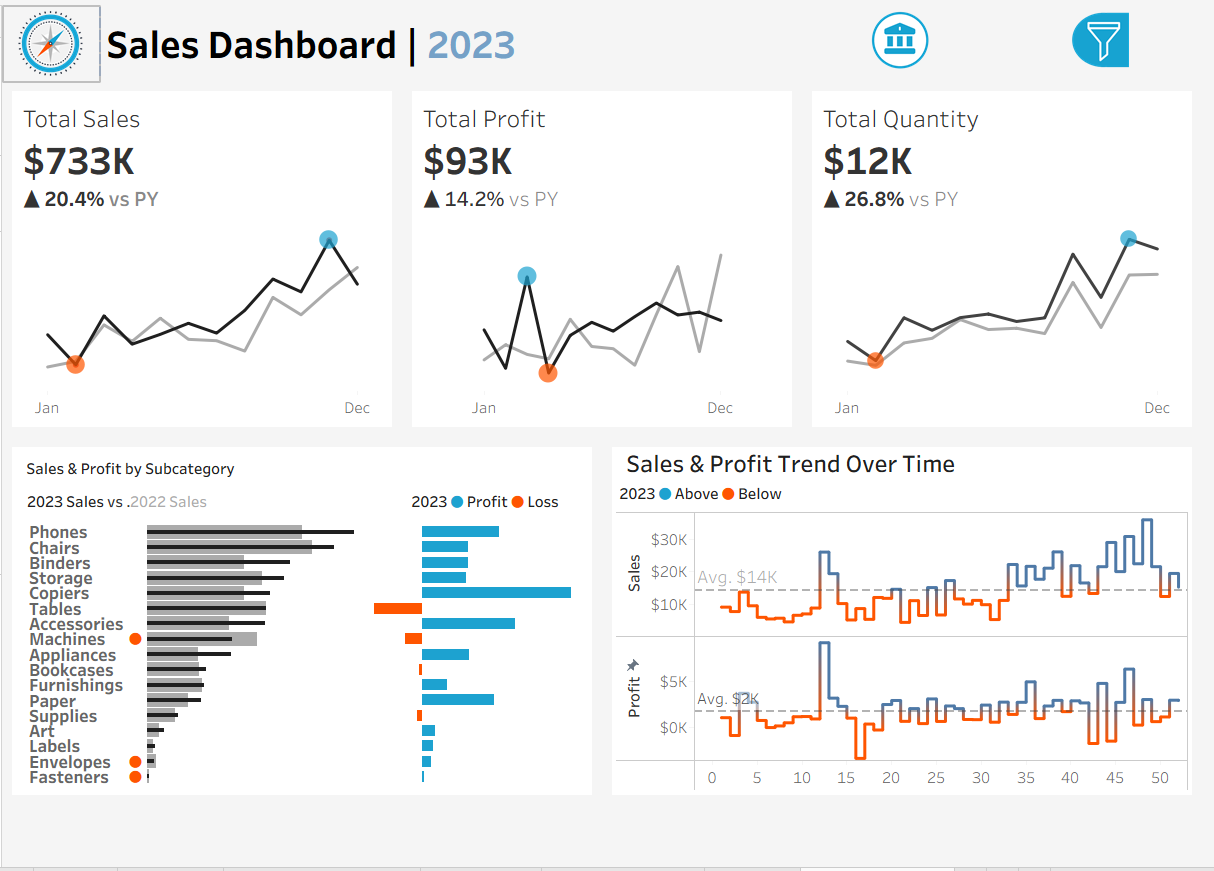

This screenshot's page, from the dashboard's own definition file:
{"tool":"tableau","page":{"name":"Sales Dashboard","canvas":[1200,800],"ordinal":0},"visuals":[{"type":"image","param":"Image/Icon - Logo.png","box":[0,0,97,76]},{"type":"text","box":[97,0,1103,76]},{"type":"dashboard-object","box":[798,2,200,66]},{"type":"dashboard-object","box":[998,2,199,66]},{"type":"blank","box":[874,25,301,105]},{"type":"worksheet","title":"Legend KPI","mark":"Automatic","box":[0,76,1200,10]},{"type":"worksheet","title":"KPI Sales","mark":"Automatic","rows":["Calculation_202943508284424199"],"cols":["Order Date"],"box":[0,86,400,346]},{"type":"worksheet","title":"KPI Profit","mark":"Automatic","rows":["Calculation_202943508320563218"],"cols":["Order Date"],"box":[400,86,400,346]},{"type":"worksheet","title":"KPI Quantity","mark":"Line","rows":["Calculation_202943508334333977"],"cols":["Order Date"],"box":[800,86,400,346]},{"type":"text","box":[874,130,301,40]},{"type":"parameter","param":"[Parameters].[Parameter 1]","box":[874,170,301,56]},{"type":"blank","box":[874,226,301,71]},{"type":"text","box":[874,297,301,33]},{"type":"filter","title":"KPI Sales","param":"[federated.0f435am0am2u1h1epmaek0a4b98w].[none:Category:nk]","box":[874,330,301,61]},{"type":"filter","title":"KPI Sales","param":"[federated.0f435am0am2u1h1epmaek0a4b98w].[none:Sub-Category:nk]","box":[874,391,301,61]},{"type":"text","box":[610,442,580,32]},{"type":"text","box":[17,449,566,29]},{"type":"text","box":[874,452,301,33]},{"type":"text","box":[610,474,580,29]},{"type":"worksheet","title":"Legend Subcategory","mark":"Automatic","box":[17,478,385,37]},{"type":"text","box":[402,478,181,37]},{"type":"filter","title":"KPI Sales","param":"[federated.0f435am0am2u1h1epmaek0a4b98w].[none:Region:nk]","box":[874,485,301,61]},{"type":"worksheet","title":"Weekly Trends","mark":"Automatic","rows":["Calculation_202943508272513024","Calculation_202943508318441487"],"cols":["Order Date"],"box":[610,503,580,287]},{"type":"worksheet","title":"Subcategory Comparison","mark":"Bar","rows":["Sub-Category","Calculation_1282400044285333504"],"cols":["CY Sales (copy)_202943508272824322","Calculation_202943508272513024","Calculation_202943508318441487"],"box":[17,515,566,267.9]},{"type":"filter","title":"KPI Sales","param":"[federated.0f435am0am2u1h1epmaek0a4b98w].[none:State:nk]","box":[874,546,301,61]},{"type":"filter","title":"KPI Sales","param":"[federated.0f435am0am2u1h1epmaek0a4b98w].[none:City:nk]","box":[874,607,301,61]}]}

Visuals, with their boxes on the page's 1200x800 design canvas (x1, y1, x2, y2). These are canvas units, not pixel positions in the 1214x871 screenshot, which may show the page scaled, cropped or inside an application window:
image: 0,0,97,76
text: 97,0,1200,76
dashboard-object: 798,2,998,68
dashboard-object: 998,2,1197,68
blank: 874,25,1175,130
"Legend KPI" worksheet: 0,76,1200,86
"KPI Sales" worksheet: 0,86,400,432
"KPI Profit" worksheet: 400,86,800,432
"KPI Quantity" worksheet (Line marks): 800,86,1200,432
text: 874,130,1175,170
parameter: 874,170,1175,226
blank: 874,226,1175,297
text: 874,297,1175,330
"KPI Sales" filter: 874,330,1175,391
"KPI Sales" filter: 874,391,1175,452
text: 610,442,1190,474
text: 17,449,583,478
text: 874,452,1175,485
text: 610,474,1190,503
"Legend Subcategory" worksheet: 17,478,402,515
text: 402,478,583,515
"KPI Sales" filter: 874,485,1175,546
"Weekly Trends" worksheet: 610,503,1190,790
"Subcategory Comparison" worksheet (Bar marks): 17,515,583,783
"KPI Sales" filter: 874,546,1175,607
"KPI Sales" filter: 874,607,1175,668
